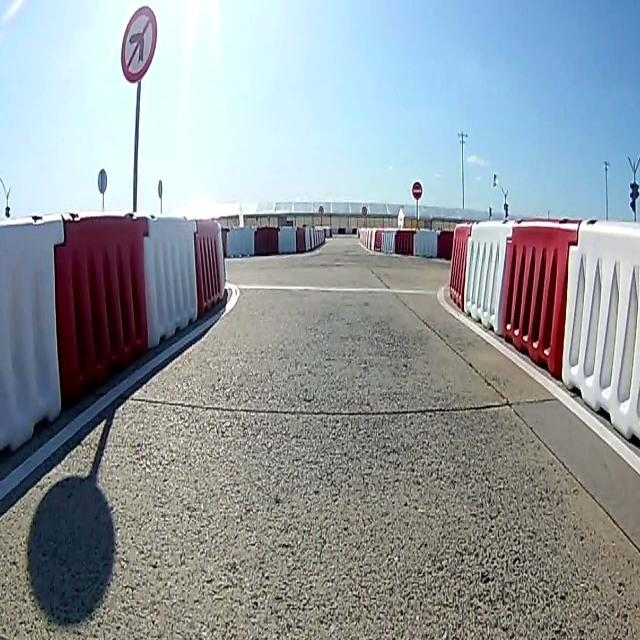girisyok: (412, 180, 422, 200)
soladonulmez: (120, 5, 156, 80)
